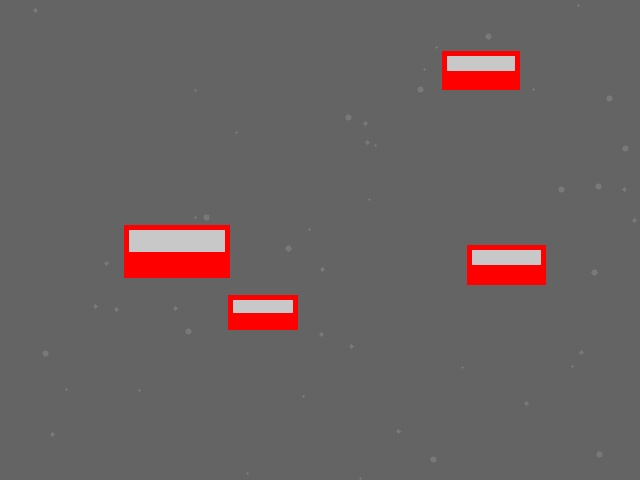car: (124, 225, 229, 277), (467, 245, 545, 284), (442, 51, 519, 89), (228, 295, 297, 329)
